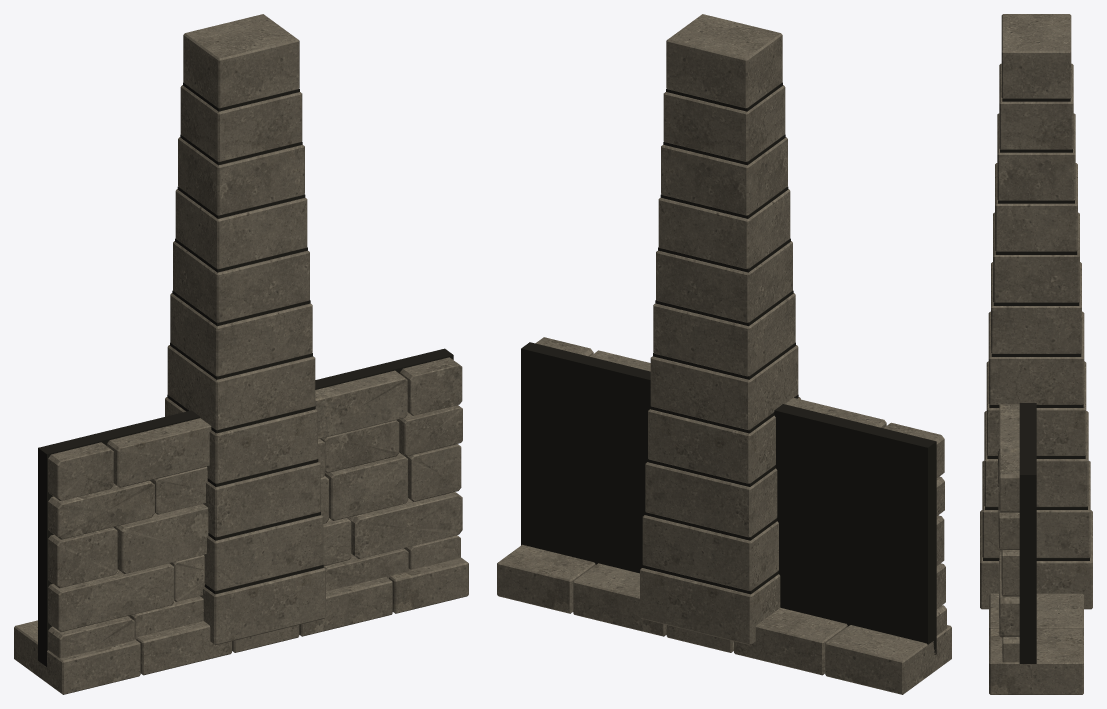
Rendered from masonry-v1.glb.
3 views of the same model, side by side, from view 1: azimuth 30°, elevation 25°; view 2: azimuth 150°, elevation 25°; view 3: azimuth 270°, elevation 25° (orthographic). The views are drawn at different scales.
Parts seen in each view (by area): view 1: Masonry_Buttress, Masonry_Panel, Masonry_Coping; view 2: Masonry_Buttress, Masonry_Panel, Masonry_Coping; view 3: Masonry_Buttress, Masonry_Panel, Masonry_Coping.
Part boxes in pixels (x1=…): Masonry_Buttress: x1=165, y1=14, x2=325, y2=645; Masonry_Panel: x1=38, y1=348, x2=462, y2=666; Masonry_Coping: x1=14, y1=557, x2=468, y2=694; Masonry_Buttress: x1=640, y1=14, x2=800, y2=645; Masonry_Panel: x1=521, y1=337, x2=946, y2=654; Masonry_Coping: x1=497, y1=544, x2=951, y2=694; Masonry_Buttress: x1=980, y1=14, x2=1092, y2=609; Masonry_Panel: x1=997, y1=403, x2=1036, y2=677; Masonry_Coping: x1=989, y1=593, x2=1083, y2=694.
Size of the model in its own units: 2 by 2.78 by 0.5.
Materials: 2 (1 with a texture image).
